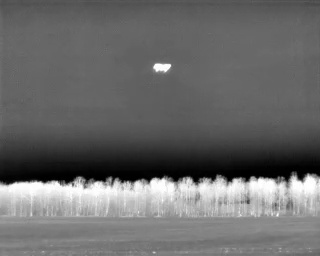DRONE: (148, 58, 175, 78)
